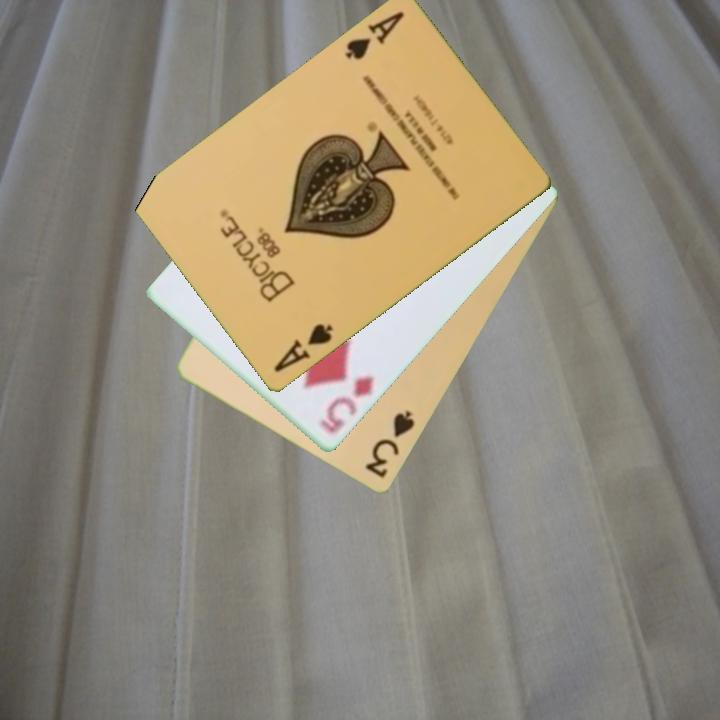3s: (362, 407, 418, 482)
5d: (316, 373, 377, 437)
As: (270, 320, 336, 376), (341, 8, 407, 64)
